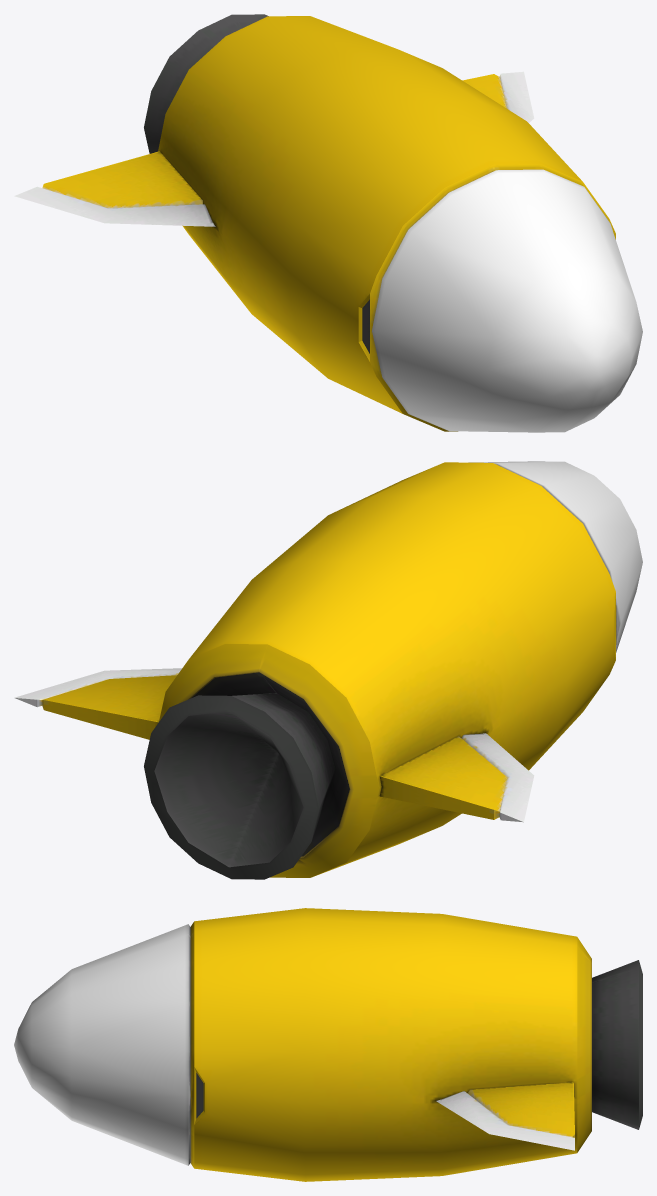
The model's file is enm_ganigani_missile.model.dae.
The picture shows the model from 3 angles, top to bottom: view 1: azimuth 30°, elevation 25°; view 2: azimuth 150°, elevation 25°; view 3: azimuth 270°, elevation 25°; orthographic projection. The views are drawn at different scales.
Visible parts, largest first — view 1: enm_ganigani_missile.001; view 2: enm_ganigani_missile.001; view 3: enm_ganigani_missile.001.
Part boxes in pixels (x1=…): enm_ganigani_missile.001: x1=14, y1=14, x2=642, y2=432; enm_ganigani_missile.001: x1=14, y1=461, x2=642, y2=879; enm_ganigani_missile.001: x1=14, y1=908, x2=642, y2=1181.
Size of the model in its own units: 0.7526 by 0.9459 by 0.4156.
Materials: 4 (4 with a texture image).
